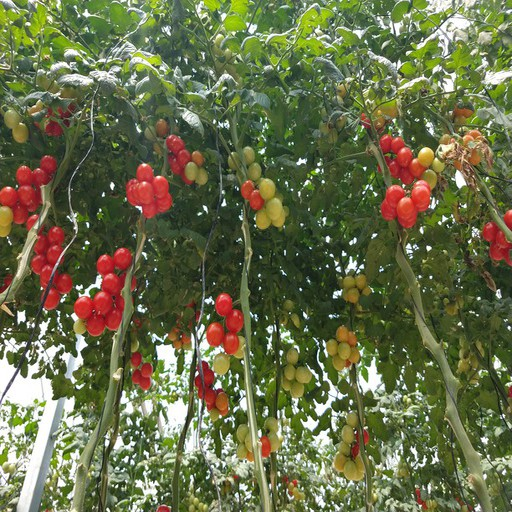dry leaves: (439, 132, 499, 195)
green tomato bunch: (225, 147, 285, 228), (318, 77, 367, 145), (435, 122, 493, 177), (333, 408, 369, 483), (379, 180, 432, 228), (235, 416, 280, 462), (458, 334, 486, 391), (324, 325, 361, 368), (279, 348, 311, 395), (340, 271, 371, 318), (274, 298, 305, 334)
mixed tomato bunch: (146, 117, 207, 185), (1, 96, 81, 142), (205, 292, 250, 372)
red tomato bunch: (75, 246, 138, 334), (26, 214, 73, 310), (1, 154, 57, 224), (125, 163, 174, 218), (119, 321, 154, 389), (191, 361, 230, 420), (377, 135, 423, 184), (164, 293, 202, 348), (480, 207, 512, 271)
